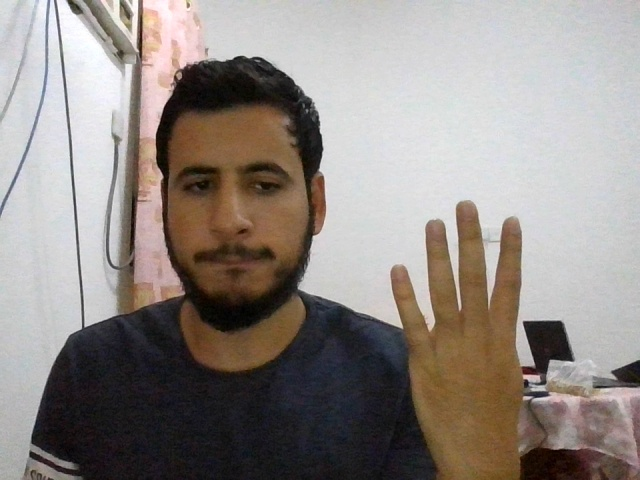Four: (389, 199, 526, 466)
